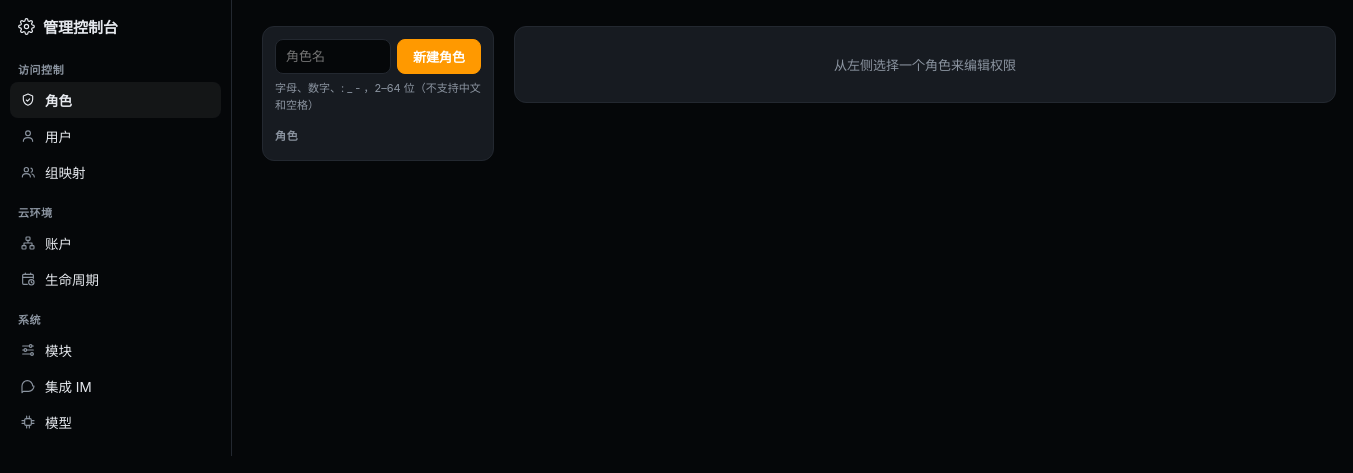
Scenario: 新建用户：邮箱必填 › 服务端说邮箱被别人用了 → 人话
Click the button with class "notif-navitem" showing "用户" at (116, 136), box [10, 118, 221, 154]
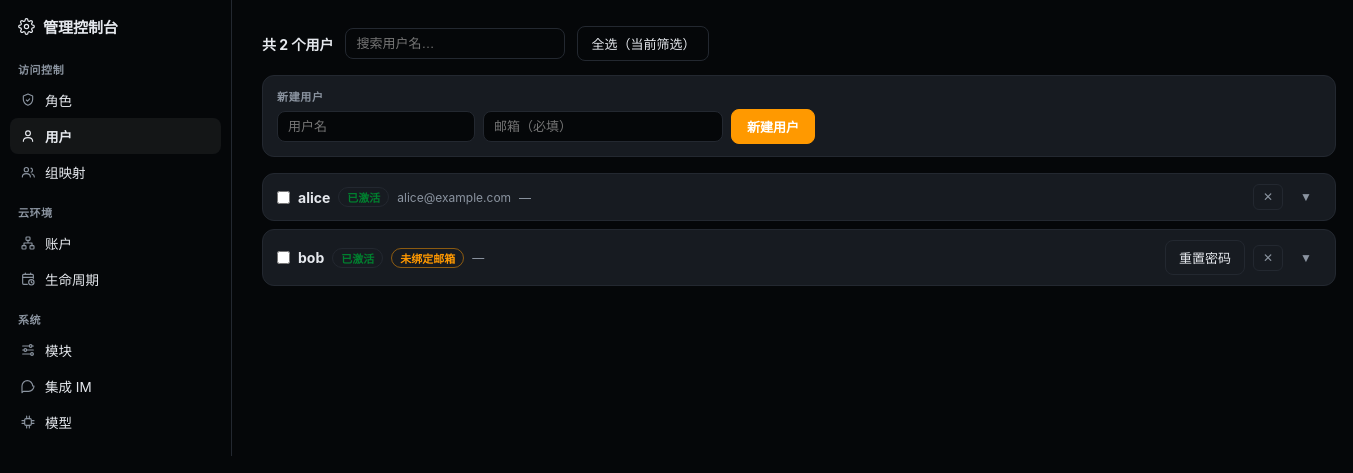
Expected: the text "bob" is shown, [298, 249, 324, 266]
Type "erin" into the field with placeholder "用户名" at (376, 126), box [277, 111, 475, 142]
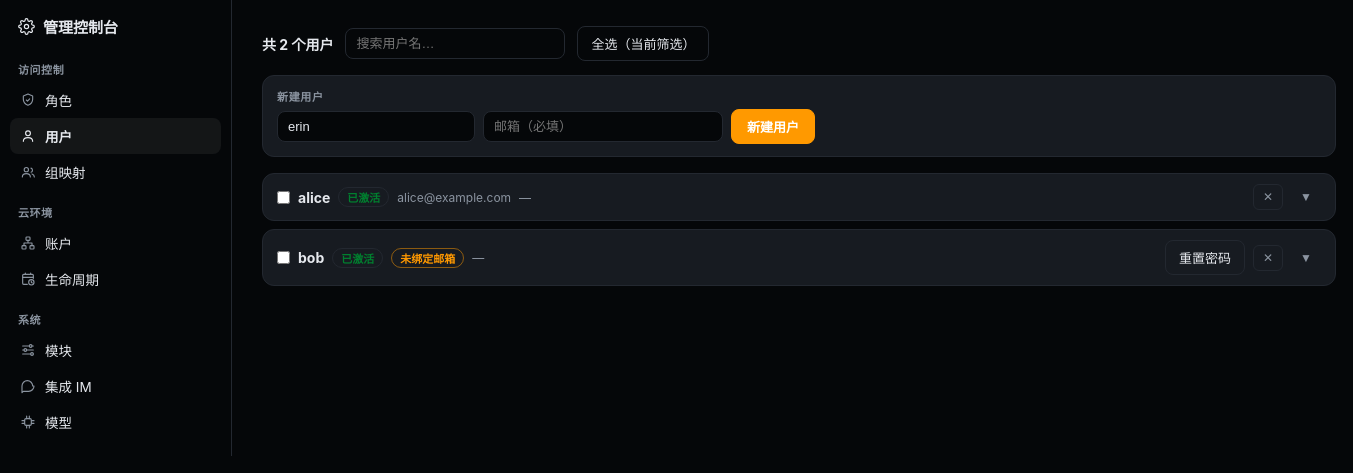
Type "alice@example.com" into the field labelled "邮箱（必填）" at (603, 126), box [483, 111, 723, 142]
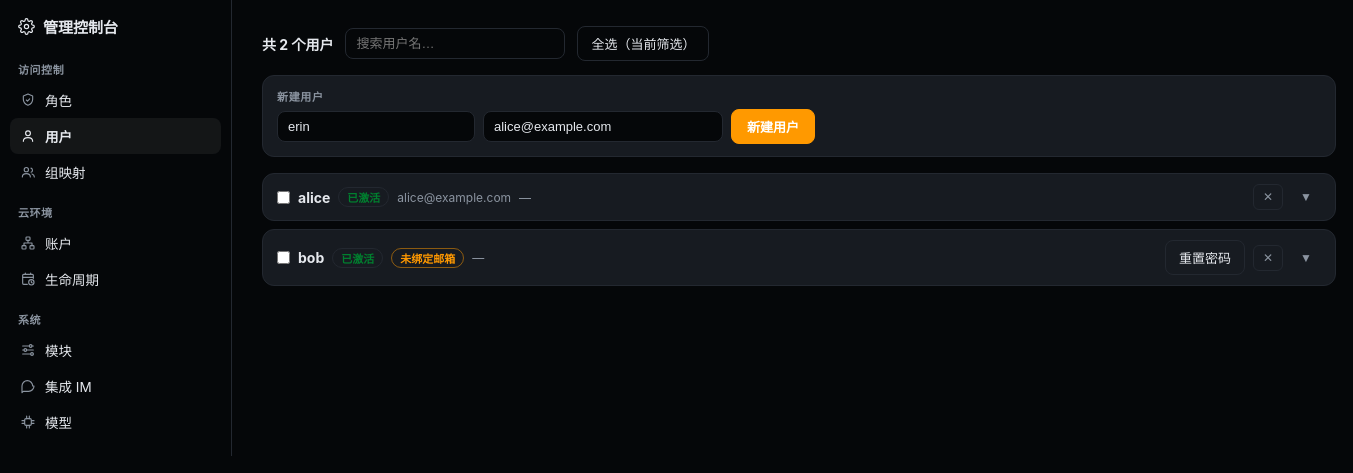
Click the button "新建用户" at (773, 126), box [731, 109, 815, 144]
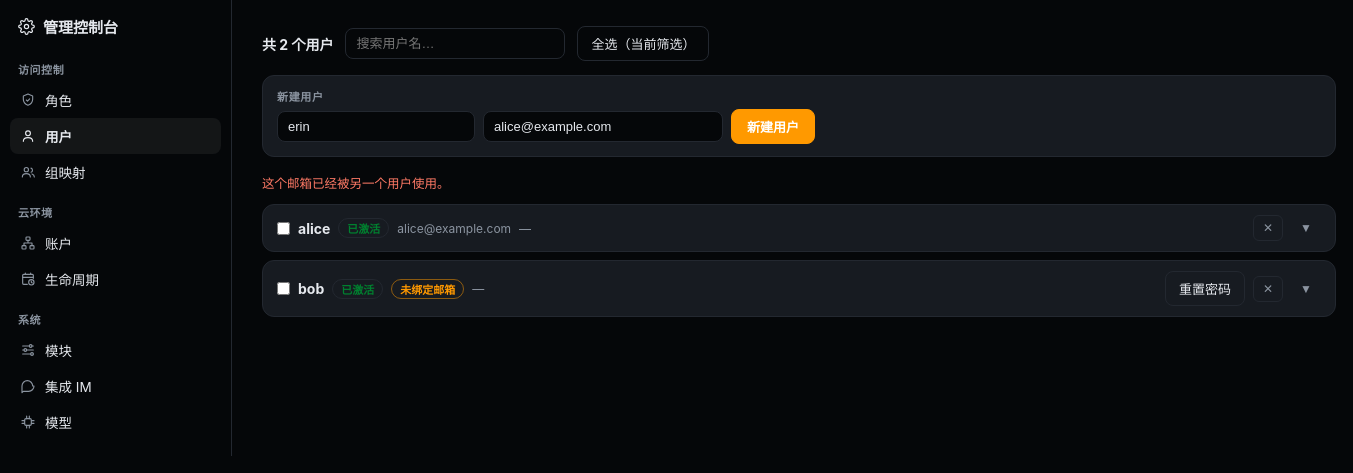
Expected: the text "这个邮箱已经被另一个用户使用。" is shown, [262, 176, 450, 191]
